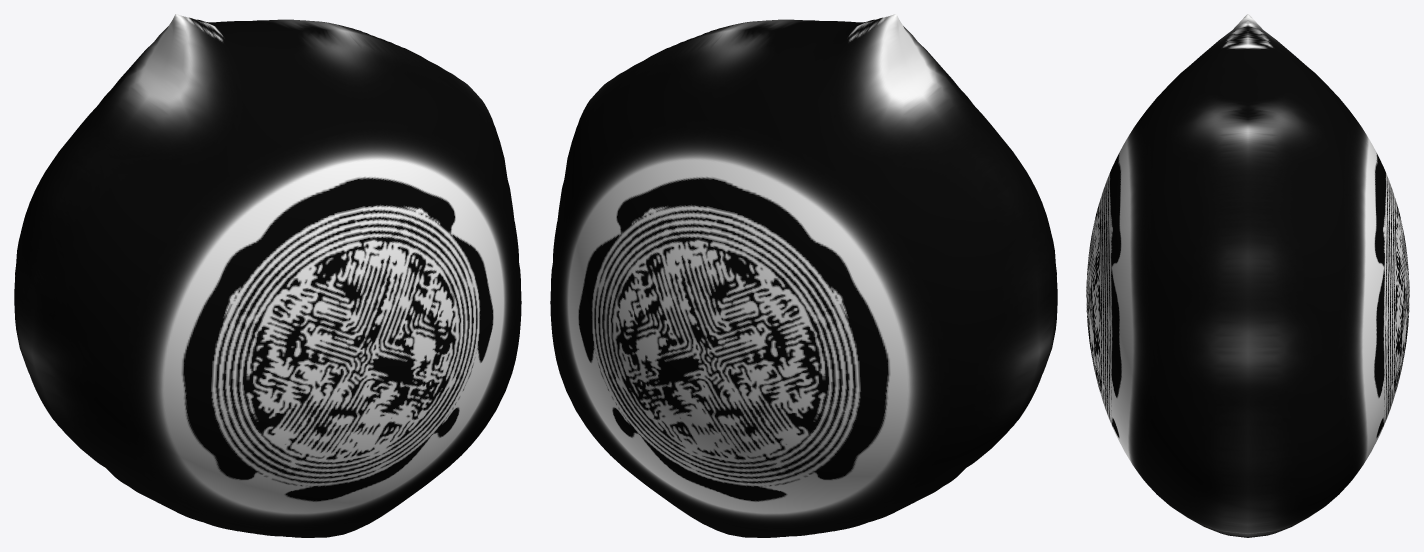
The model's file is noise4.glb.
The picture shows the model from 3 angles, left to right: view 1: azimuth 30°, elevation 25°; view 2: azimuth 150°, elevation 25°; view 3: azimuth 270°, elevation 25°; orthographic projection. The views are drawn at different scales.
Bounding box in the file's own units: 4.23 × 4.72 × 3.
Materials: 1 (1 with a texture image).
